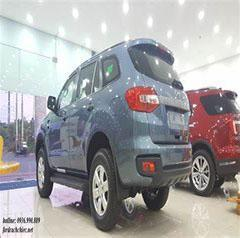car: (31, 32, 200, 236), (166, 65, 238, 206)
